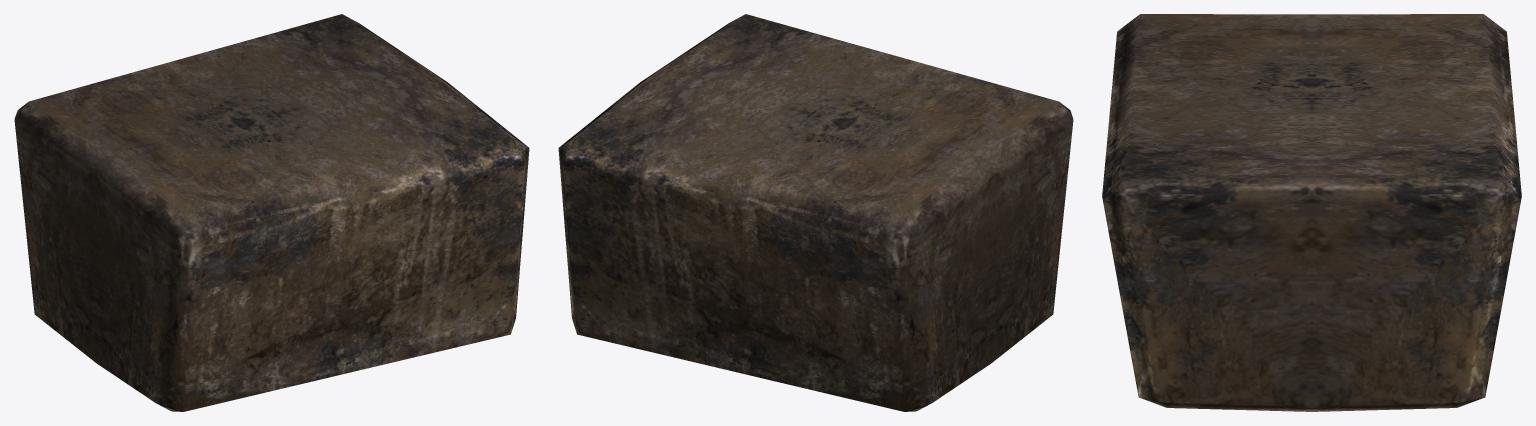
Rendered from wall_taureg_blocks02.dae.
3 views of the same model, side by side, from view 1: azimuth 30°, elevation 25°; view 2: azimuth 150°, elevation 25°; view 3: azimuth 270°, elevation 25° (orthographic). The views are drawn at different scales.
Visible parts, largest first — view 1: LO2; view 2: LO2; view 3: LO2.
Part boxes in pixels (x1=…): LO2: x1=14, y1=14, x2=529, y2=411; LO2: x1=558, y1=14, x2=1073, y2=411; LO2: x1=1102, y1=14, x2=1521, y2=411.
Size of the model in its own units: 1 by 0.5919 by 0.9374.
